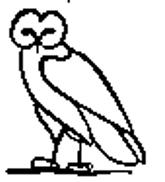Owl: (3, 4, 156, 181)
